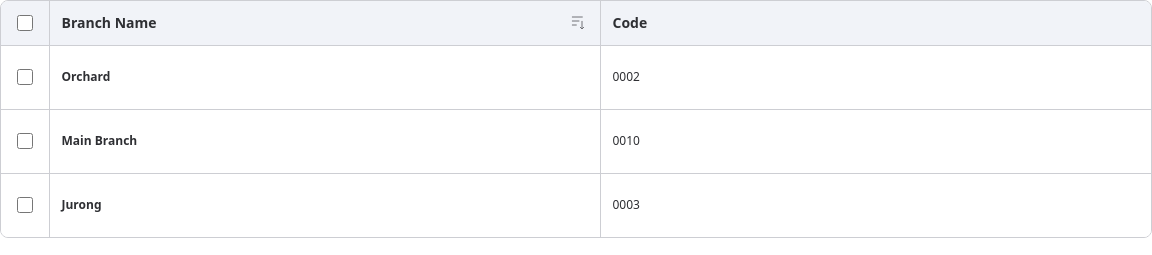
Test case: DataTable › selects rows one by one and all at once, showing a partial selection
expect the checkbox named "Select all" next to "Branch Name" is not checked: met, box [17, 15, 33, 31]
What coordinates should you click on to do the following:
click the checkbox named "Select Orchard" next to "Orchard"
I would click on:
 (25, 77)
Its box is [17, 69, 33, 85].
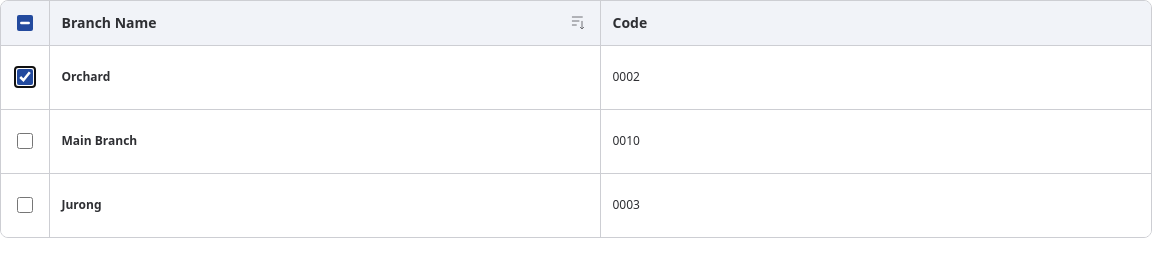
expect the checkbox named "Select Orchard" next to "Orchard" is checked: met, box [17, 69, 33, 85]
What coordinates should you click on to do the following:
click the checkbox named "Select all" next to "Branch Name"
I would click on:
 (25, 23)
Its box is [17, 15, 33, 31].
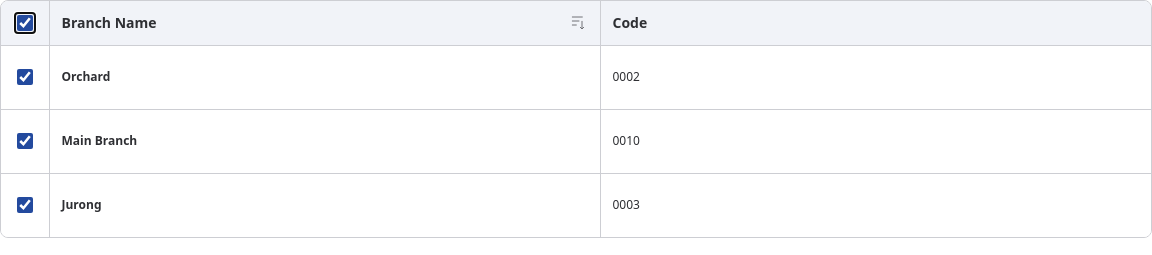
expect the checkbox named "Select all" next to "Branch Name" is checked: met
What coordinates should you click on to do the following:
click the checkbox next to "Branch Name"
I would click on:
 (25, 23)
Its box is [17, 15, 33, 31].
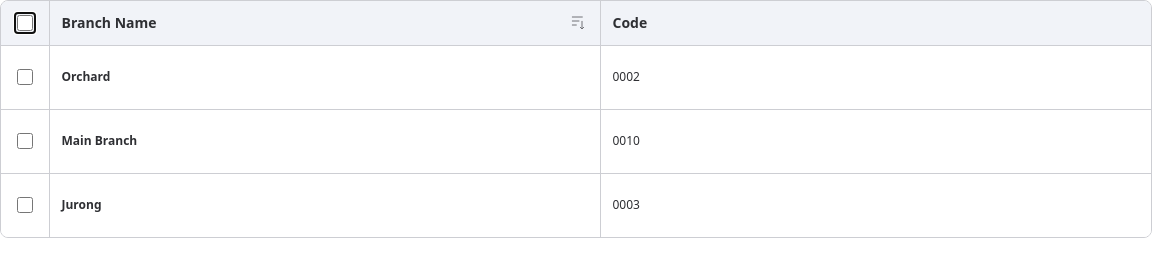
expect the checkbox named "Select Jurong" next to "Jurong" is not checked: met, box [17, 197, 33, 213]
